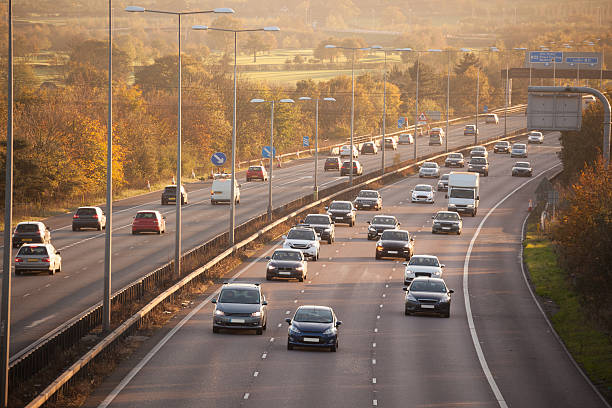car: (214, 285, 265, 333), (287, 305, 337, 349), (405, 277, 451, 314), (14, 243, 60, 272), (377, 228, 414, 264), (448, 172, 477, 215), (266, 251, 306, 282), (283, 228, 318, 258), (405, 254, 441, 283), (72, 206, 105, 235), (210, 177, 240, 207), (13, 221, 48, 246), (369, 215, 402, 241), (129, 211, 162, 235), (433, 210, 461, 238), (305, 215, 331, 243), (328, 200, 355, 224), (357, 190, 380, 208), (468, 155, 489, 173), (163, 185, 181, 205), (246, 164, 265, 182), (412, 183, 431, 201), (445, 152, 464, 168), (339, 145, 359, 160), (511, 163, 532, 177), (417, 161, 436, 176), (323, 155, 340, 171), (341, 161, 360, 175), (360, 141, 376, 156), (382, 137, 396, 152), (428, 131, 443, 144), (399, 132, 412, 146), (464, 124, 479, 134)
